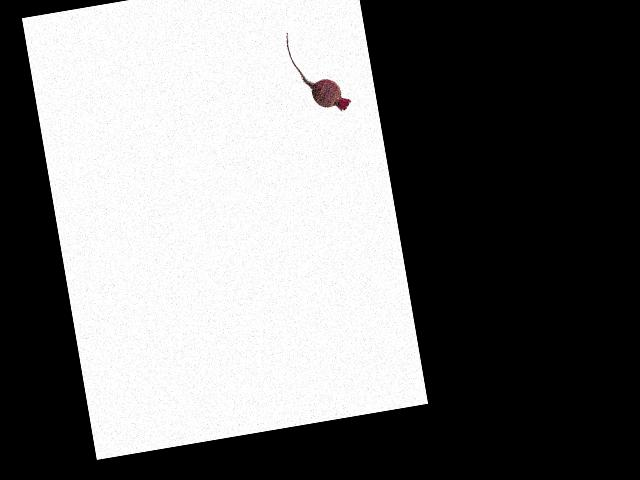beet: (284, 23, 352, 117)
